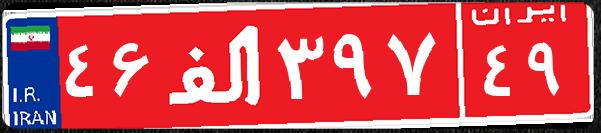3: (273, 28, 330, 110)
4: (57, 26, 110, 107), (475, 38, 525, 113)
6: (110, 28, 158, 105)
7: (385, 28, 445, 110)
9: (330, 28, 385, 110), (525, 38, 570, 115)
الف: (158, 15, 273, 115)
